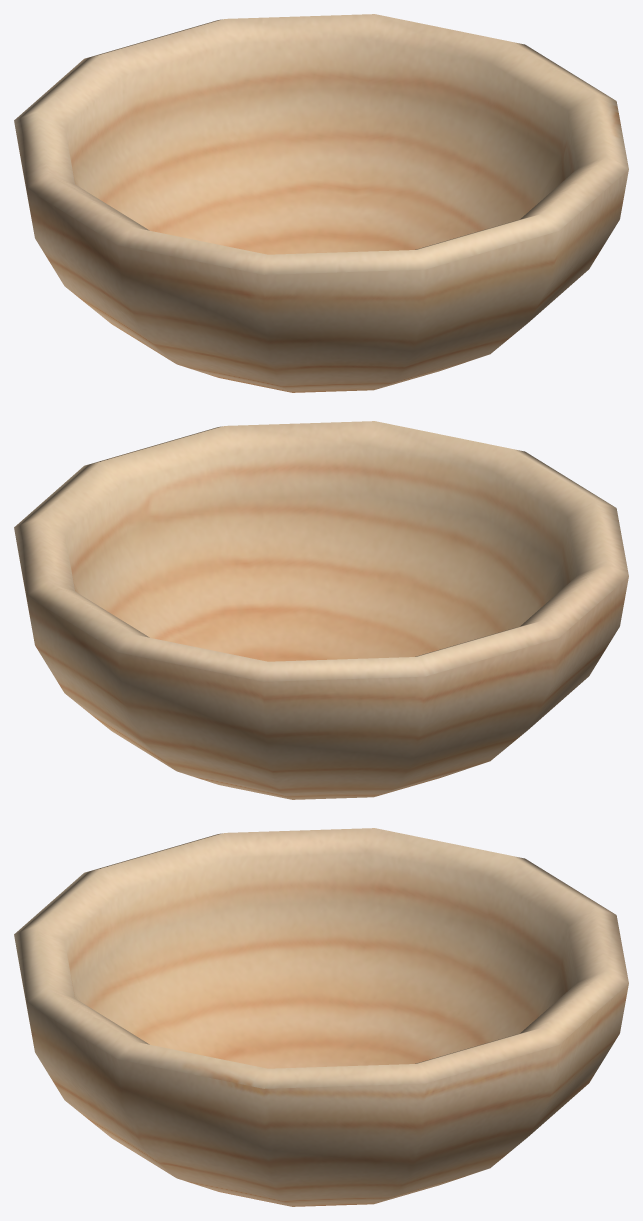
The model's file is Basket_Proof.fbx.
The picture shows the model from 3 angles, top to bottom: view 1: azimuth 30°, elevation 25°; view 2: azimuth 150°, elevation 25°; view 3: azimuth 270°, elevation 25°; orthographic projection.
Visible parts, largest first — view 1: Basket_Proof; view 2: Basket_Proof; view 3: Basket_Proof.
Part boxes in pixels (bbox=[...]): Basket_Proof: bbox=[14, 14, 628, 392]; Basket_Proof: bbox=[14, 421, 628, 799]; Basket_Proof: bbox=[14, 828, 628, 1206].
Size of the model in its own units: 65.02 by 25.93 by 65.02.
